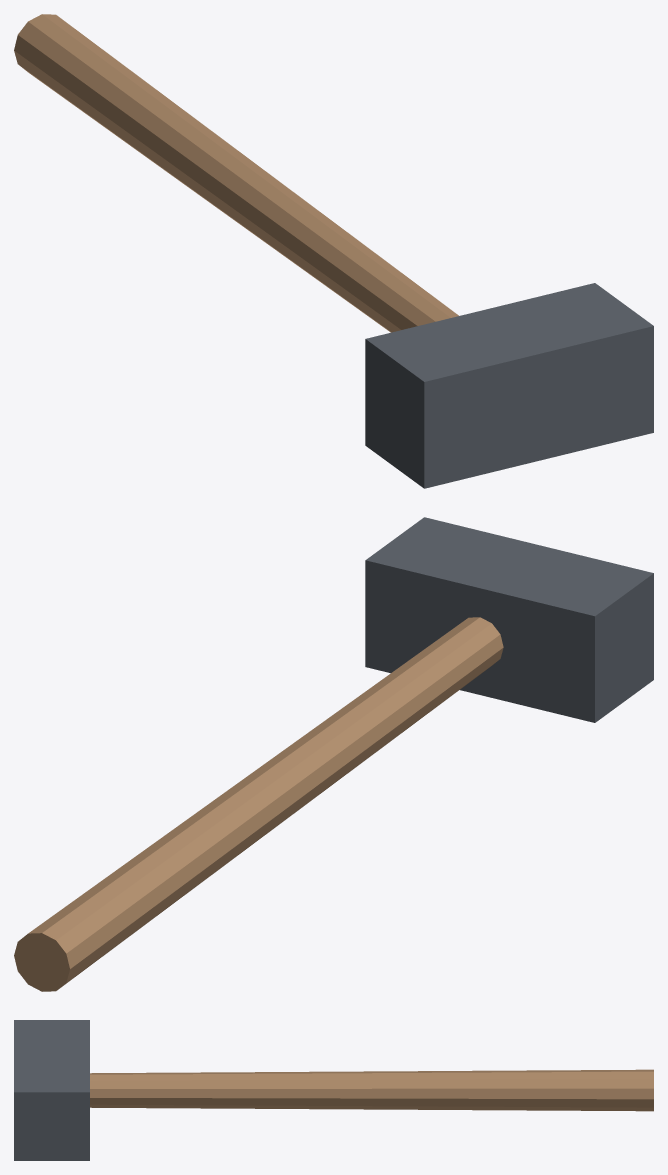
Rendered from wpn_hammer.glb.
3 views of the same model, one above another, from view 1: azimuth 30°, elevation 25°; view 2: azimuth 150°, elevation 25°; view 3: azimuth 270°, elevation 25° (orthographic). The views are drawn at different scales.
Visible parts, largest first — view 1: wpn_hammer; view 2: wpn_hammer; view 3: wpn_hammer.
Boxes of the visible parts, x1,y1,x2,y2 form: wpn_hammer: (14, 14, 653, 488); wpn_hammer: (14, 517, 653, 991); wpn_hammer: (14, 1020, 653, 1160).
Bounding box in the file's own units: 0.18 × 0.08 × 0.675.
